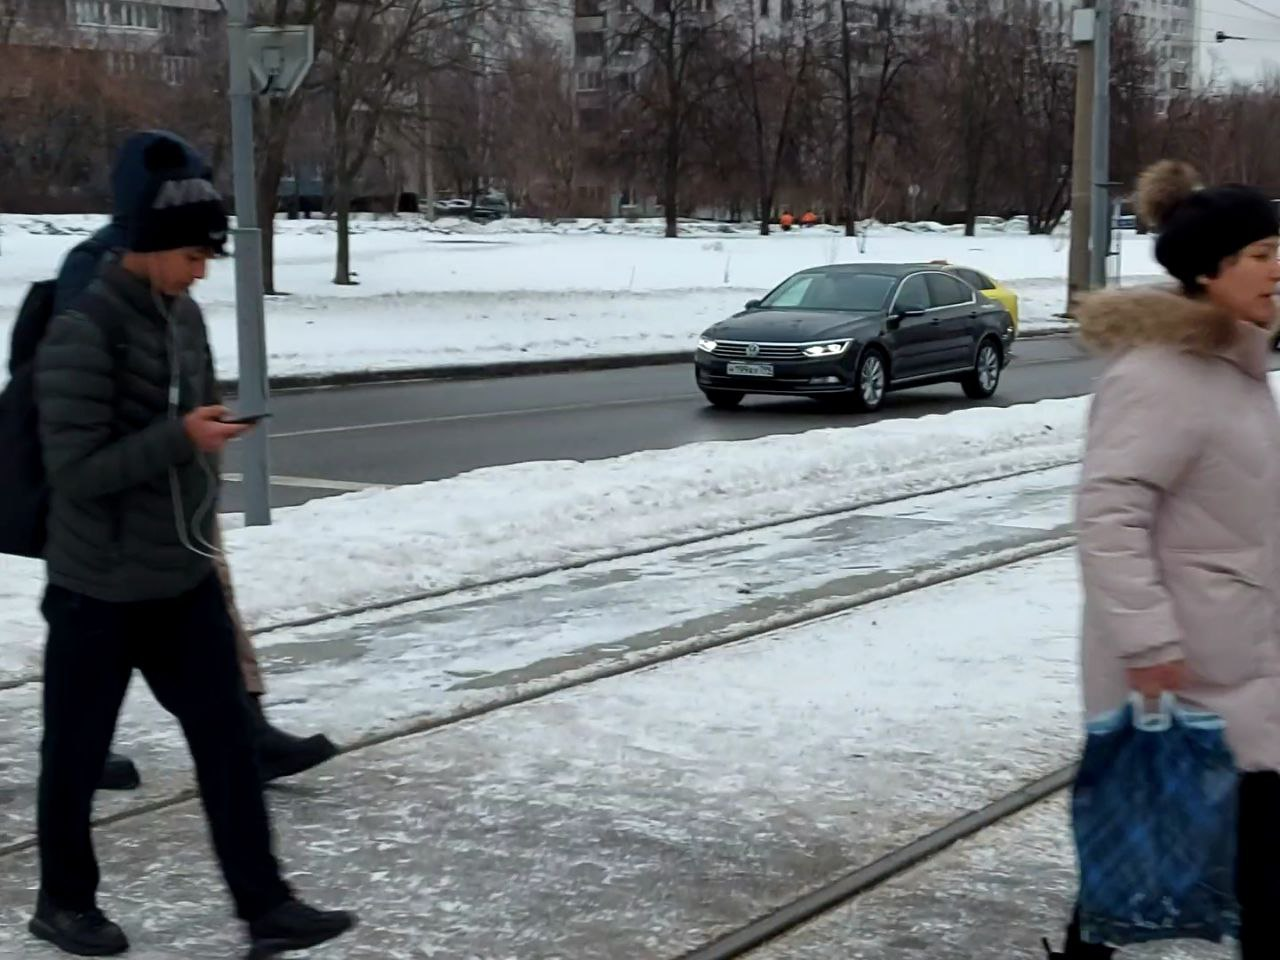sombie: (1, 127, 359, 960)
